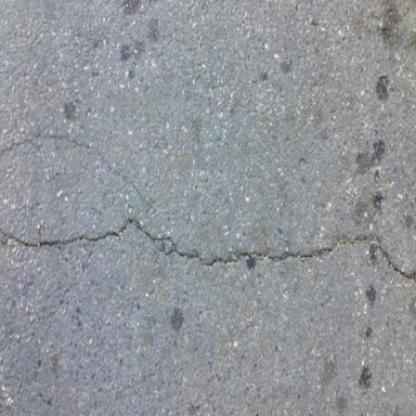Cracks: (6, 185, 416, 290), (0, 124, 166, 214)
